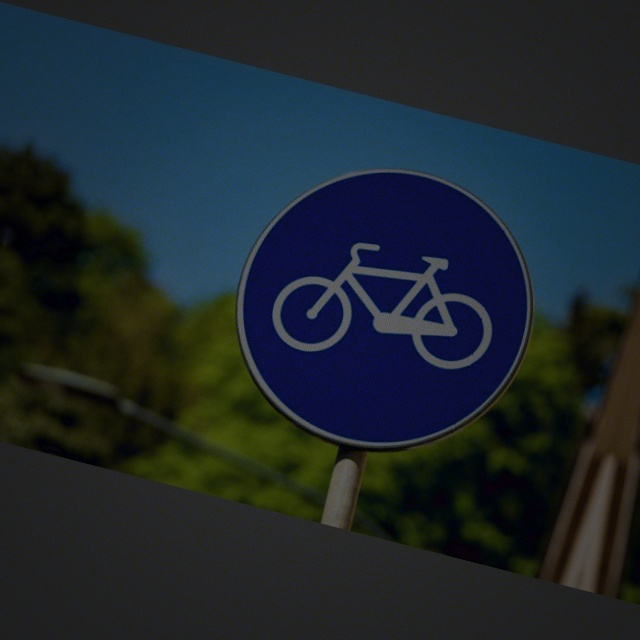Compulsory_Cycle_Track: (208, 136, 563, 485)
